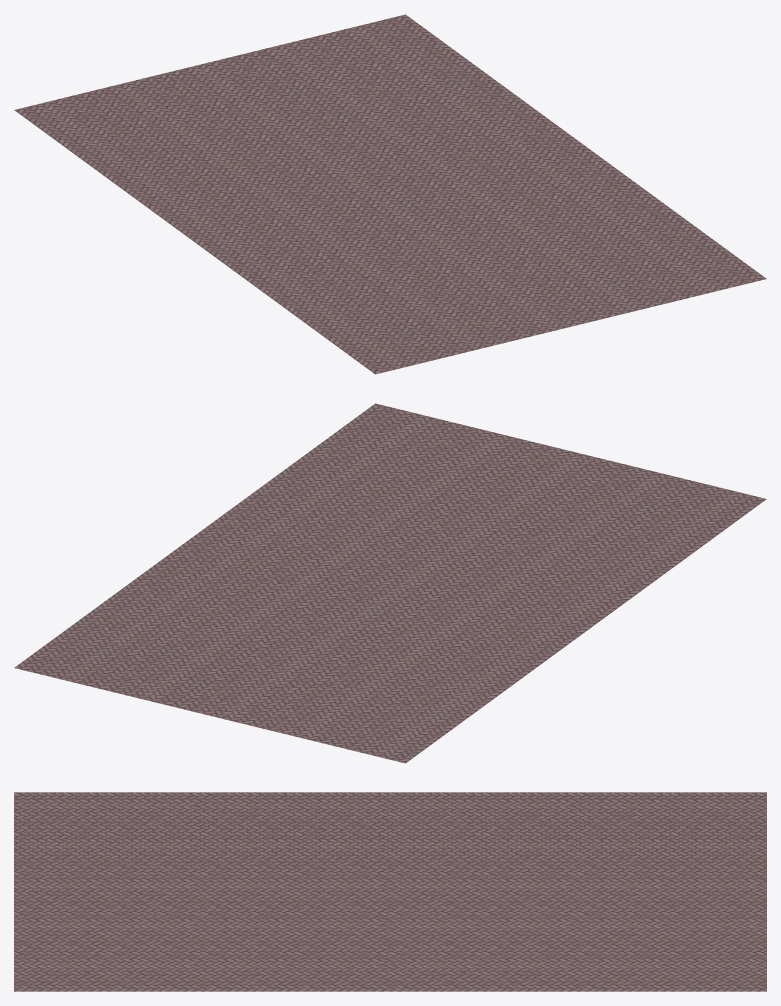
File: floor3.FBX
3 renders of one model, top to bottom at view 1: azimuth 30°, elevation 25°; view 2: azimuth 150°, elevation 25°; view 3: azimuth 270°, elevation 25°, orthographic. The views are drawn at different scales.
Parts seen in each view (by area): view 1: Plane002; view 2: Plane002; view 3: Plane002.
Part boxes in pixels (<box>): Plane002: <box>14,14,766,374</box>; Plane002: <box>14,403,766,763</box>; Plane002: <box>14,792,766,991</box>.
Size of the model in its own units: 149 by 1.46e-14 by 239.
